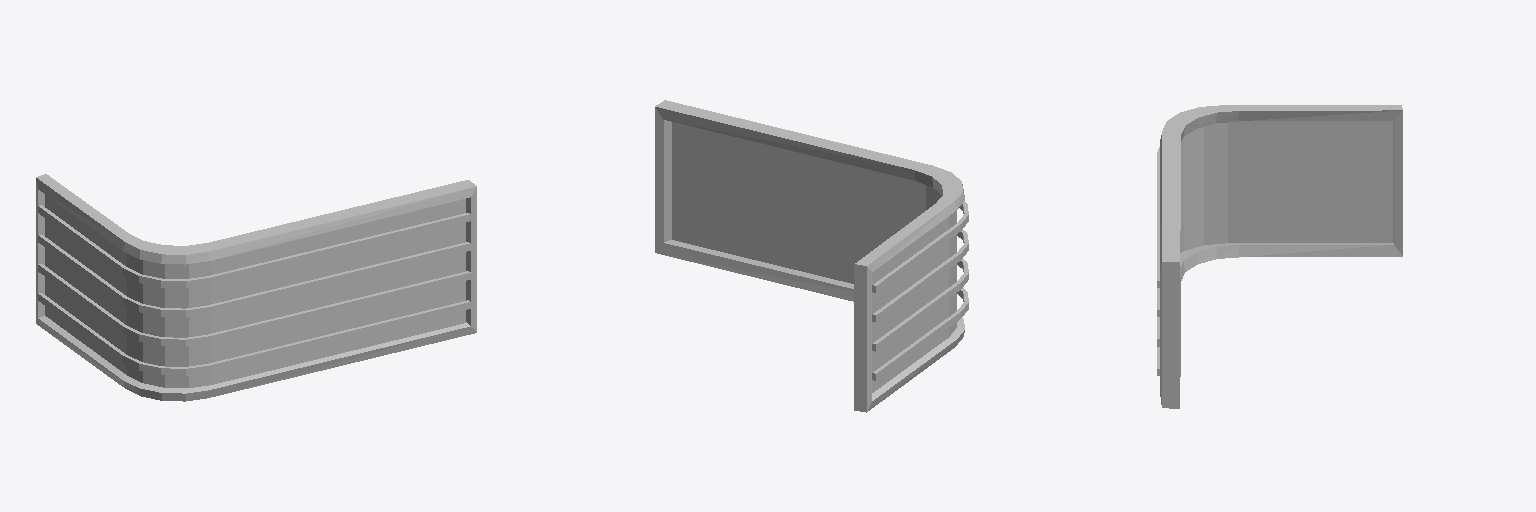
The model's file is Sign_Corner_3_Fenced_Plane_001.obj.
3 views of the same model, side by side, from view 1: azimuth 30°, elevation 25°; view 2: azimuth 150°, elevation 25°; view 3: azimuth 270°, elevation 25° (orthographic).
Visible parts, largest first — view 1: Sign_Corner_3_Fenced_Plane.001; view 2: Sign_Corner_3_Fenced_Plane.001; view 3: Sign_Corner_3_Fenced_Plane.001.
Part boxes in pixels (left/top/right/bottom): Sign_Corner_3_Fenced_Plane.001: left=36, top=174, right=476, bottom=401; Sign_Corner_3_Fenced_Plane.001: left=655, top=100, right=968, bottom=412; Sign_Corner_3_Fenced_Plane.001: left=1157, top=105, right=1402, bottom=408.
Size of the model in its own units: 1.69 by 0.7269 by 1.11.